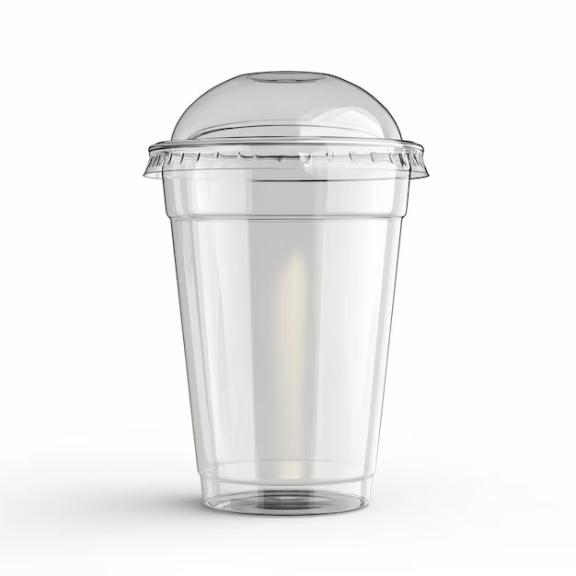Plastik: (147, 72, 426, 500)
